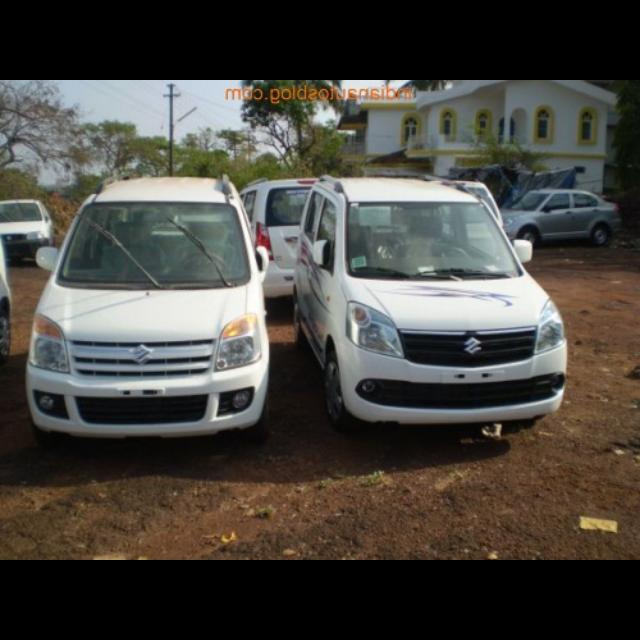number-plate: (78, 379, 204, 402), (434, 364, 510, 392)
vehicles: (295, 173, 569, 437), (14, 176, 267, 456), (239, 176, 317, 304), (501, 188, 620, 248), (2, 199, 54, 263)
